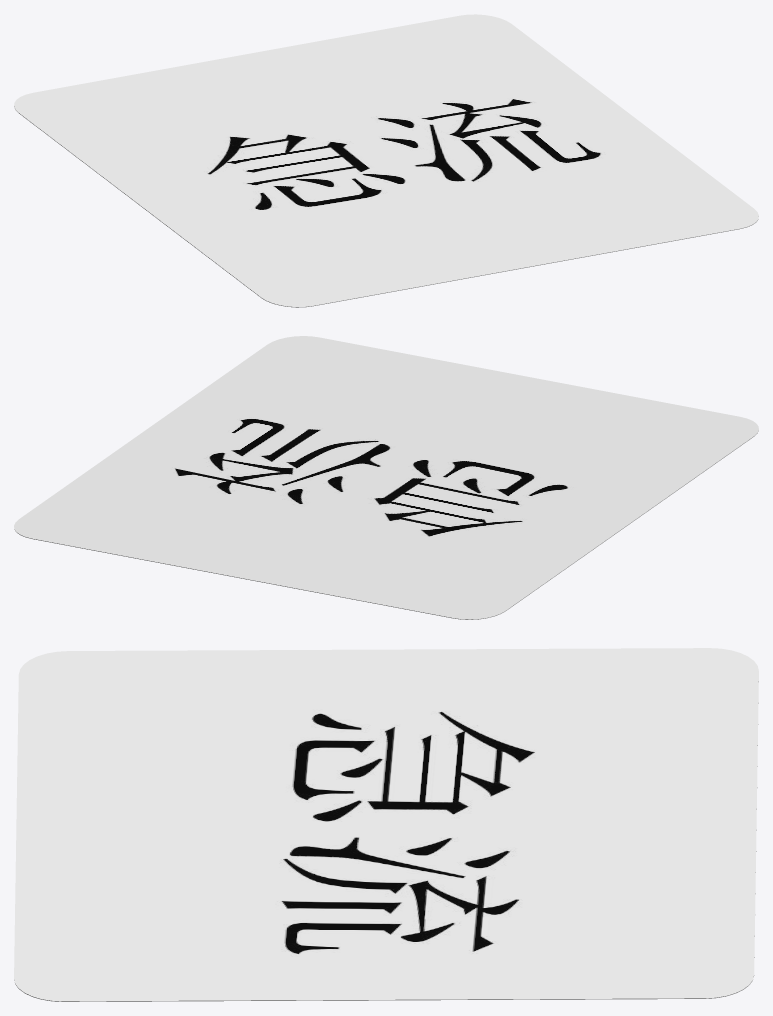
The model's file is JiLiu.FBX.
3 renders of one model, top to bottom at view 1: azimuth 30°, elevation 25°; view 2: azimuth 150°, elevation 25°; view 3: azimuth 270°, elevation 25°, orthographic. The views are drawn at different scales.
Visible parts, largest first — view 1: Rectangle001; view 2: Rectangle001; view 3: Rectangle001.
Boxes of the visible parts, x1=… form: Rectangle001: x1=14, y1=14, x2=758, y2=307; Rectangle001: x1=14, y1=336, x2=758, y2=619; Rectangle001: x1=14, y1=648, x2=758, y2=1001.
Size of the model in its own units: 60.32 by 3.91 by 60.38.
